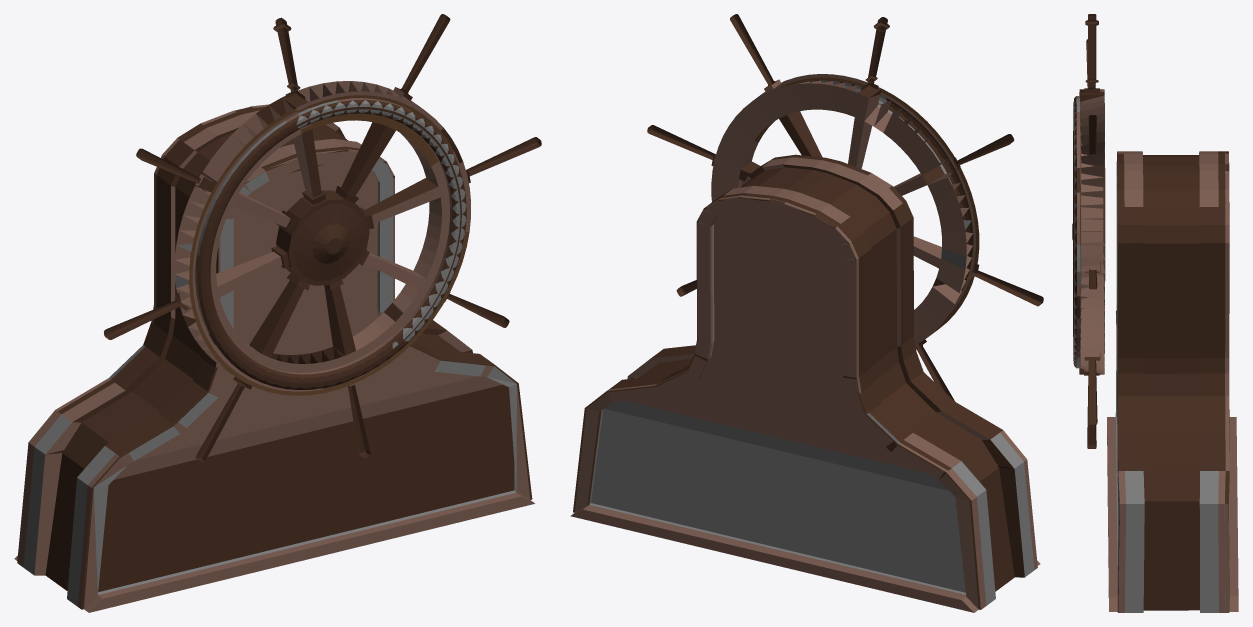
File: steerWheel.fbx
3 renders of one model, left to right at view 1: azimuth 30°, elevation 25°; view 2: azimuth 150°, elevation 25°; view 3: azimuth 270°, elevation 25°, orthographic. The views are drawn at different scales.
Parts seen in each view (by area): view 1: polySurface51, polySurface52; view 2: polySurface51, polySurface52; view 3: polySurface51, polySurface52.
Boxes of the visible parts, <box> form: polySurface51: <box>14,104,534,612</box>; polySurface52: <box>104,14,541,462</box>; polySurface51: <box>570,154,1040,612</box>; polySurface52: <box>647,14,1043,401</box>; polySurface51: <box>1107,151,1238,612</box>; polySurface52: <box>1072,14,1105,448</box>.
Bounding box in the file's own units: 4.67 × 5.51 × 1.7.
